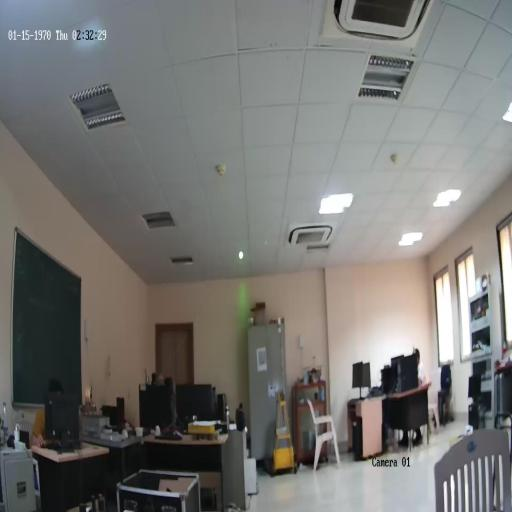laser: (238, 248, 244, 263)
